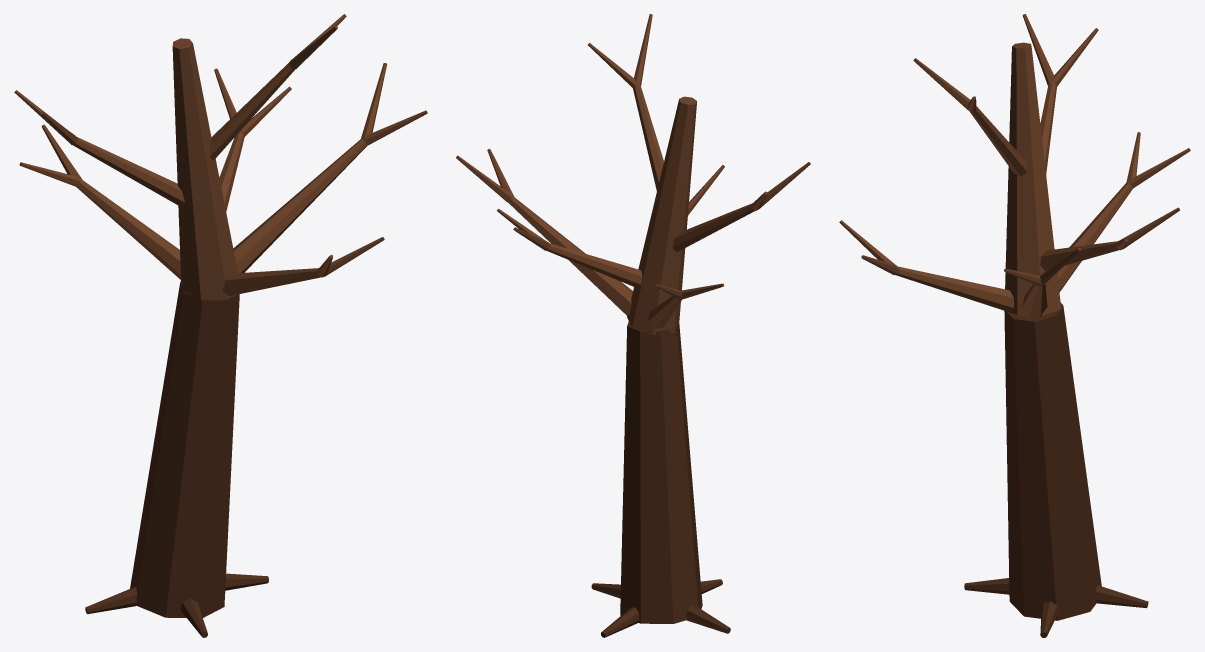
Rendered from tree_bare_b.glb.
The picture shows the model from 3 angles, left to right: view 1: azimuth 30°, elevation 25°; view 2: azimuth 150°, elevation 25°; view 3: azimuth 270°, elevation 25°; orthographic projection. The views are drawn at different scales.
Visible parts, largest first — view 1: Trunk_Lower.007, Trunk_Upper.007, Branch_1.001, Branch_2.001, Branch_5.001, Branch_6.001, Branch_3.001, Branch_4.001, Root_3.007; view 2: Trunk_Lower.007, Trunk_Upper.007, Branch_1.001, Branch_4.001, Branch_5.001, Branch_6.001, Branch_2.001, Root_3.007, Root_2.007; view 3: Trunk_Lower.007, Trunk_Upper.007, Branch_3.001, Branch_2.001, Branch_6.001, Branch_4.001, Branch_5.001, Root_2.007, Branch_1.001, Root_4.007, Twig_5_3.001, Twig_6_1.001.
Part boxes in pixels (left/top/right/bottom): Trunk_Lower.007: left=130, top=281, right=239, bottom=617; Trunk_Upper.007: left=172, top=38, right=237, bottom=302; Branch_1.001: left=233, top=138, right=367, bottom=273; Branch_2.001: left=76, top=179, right=180, bottom=279; Branch_5.001: left=73, top=136, right=184, bottom=206; Branch_6.001: left=210, top=62, right=294, bottom=160; Branch_3.001: left=222, top=268, right=321, bottom=296; Branch_4.001: left=219, top=132, right=244, bottom=211; Root_3.007: left=85, top=587, right=136, bottom=614; Trunk_Lower.007: left=620, top=321, right=702, bottom=623; Trunk_Upper.007: left=627, top=96, right=696, bottom=335; Branch_1.001: left=508, top=196, right=632, bottom=315; Branch_4.001: left=546, top=243, right=642, bottom=288; Branch_5.001: left=672, top=203, right=755, bottom=251; Branch_6.001: left=633, top=84, right=663, bottom=190; Branch_2.001: left=647, top=296, right=681, bottom=328; Root_3.007: left=686, top=605, right=730, bottom=633; Root_2.007: left=601, top=607, right=639, bottom=637; Trunk_Lower.007: left=1004, top=303, right=1101, bottom=620; Trunk_Upper.007: left=1005, top=42, right=1061, bottom=315; Branch_3.001: left=895, top=266, right=1013, bottom=313; Branch_2.001: left=1057, top=182, right=1133, bottom=292; Branch_6.001: left=969, top=106, right=1027, bottom=176; Branch_4.001: left=1040, top=241, right=1119, bottom=270; Branch_5.001: left=1040, top=82, right=1056, bottom=174; Root_2.007: left=1095, top=585, right=1148, bottom=608; Branch_1.001: left=1022, top=284, right=1047, bottom=317; Root_4.007: left=964, top=578, right=1009, bottom=594; Twig_5_3.001: left=1022, top=14, right=1054, bottom=85; Twig_6_1.001: left=913, top=58, right=970, bottom=110.
Bounding box in the file's own units: 4.1 × 6.33 × 3.45.
